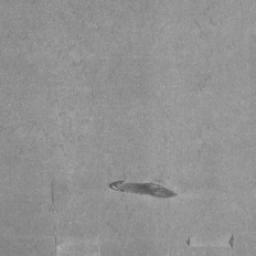Rolled pit: (109, 180, 177, 198), (228, 234, 234, 248), (186, 237, 191, 246)
